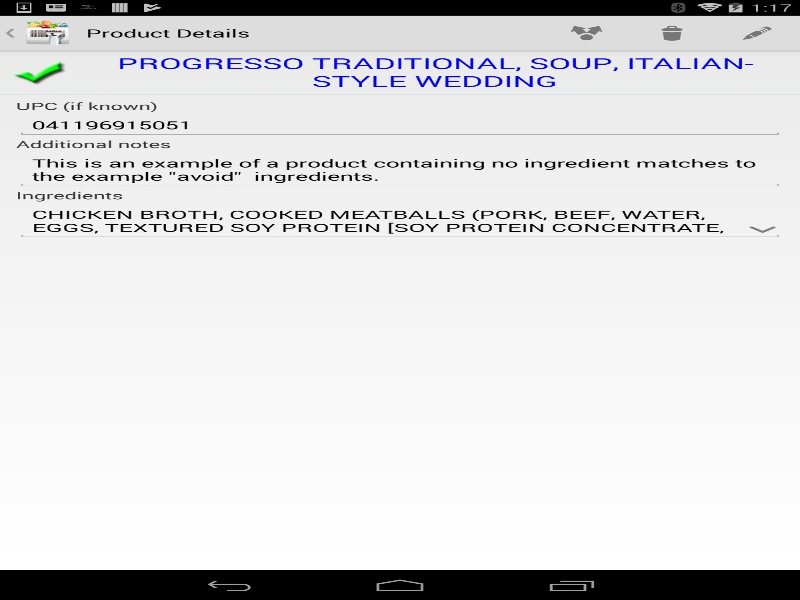Input: (16, 150, 784, 188), (16, 202, 784, 239), (16, 112, 784, 137)
